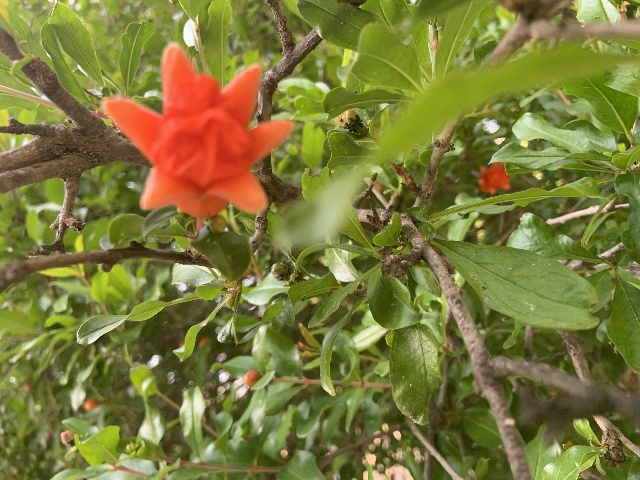bud: (241, 370, 263, 387)
flower: (104, 45, 290, 224), (477, 162, 512, 195)
